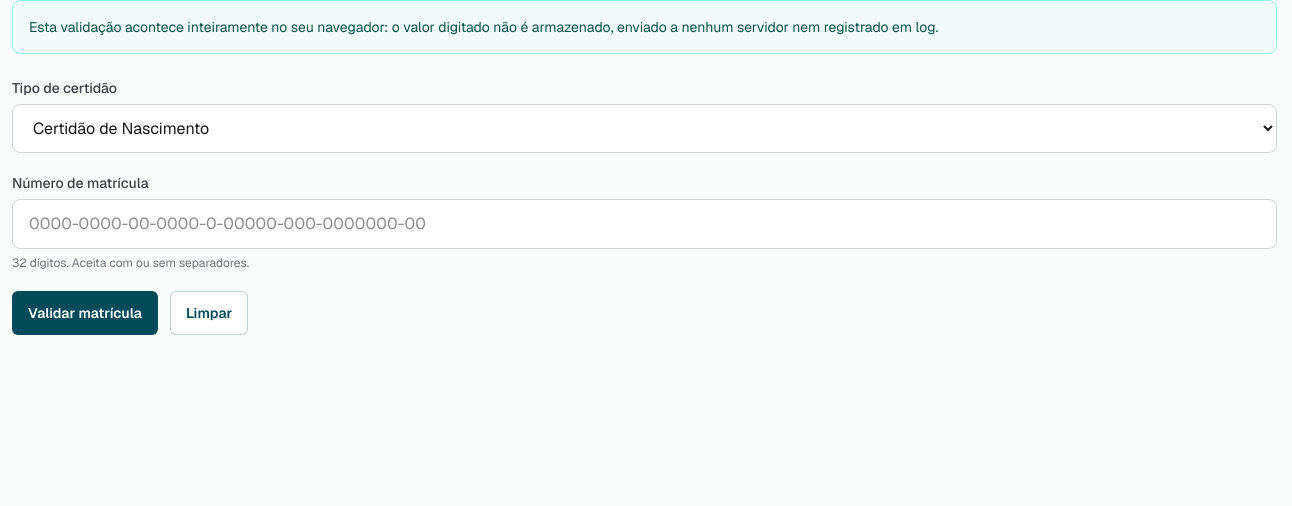
ValidadorCertidoesTool › mostra formato inválido para menos de 32 dígitos
The width and height of the screenshot is (1292, 506).
Step 1. Type "12345" into the field labelled "Número de matrícula" → (644, 224), box [12,199,1277,249]
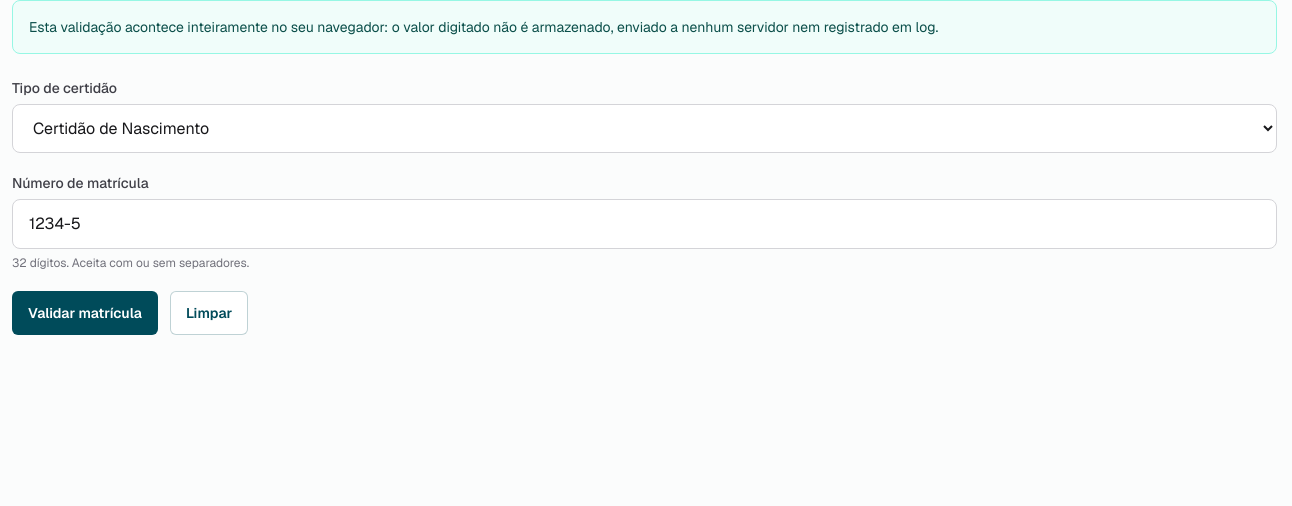
Step 2. Click the button "Validar matrícula" → (85, 313), box [12,291,158,335]
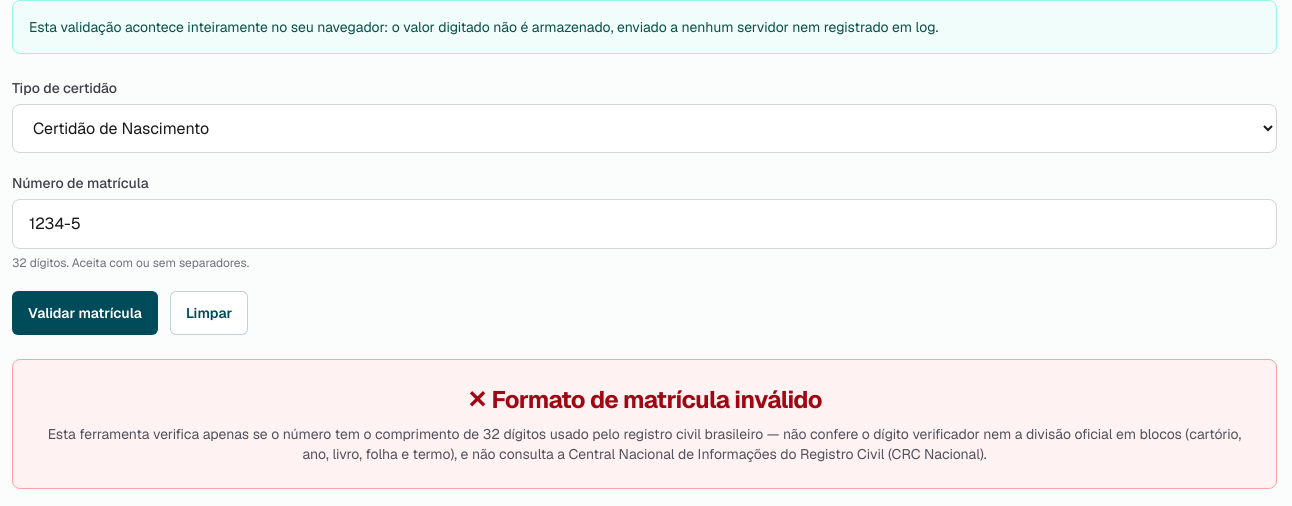
Now the text "✕ Formato de matrícula inválido" is shown, box [467,384,822,415]
